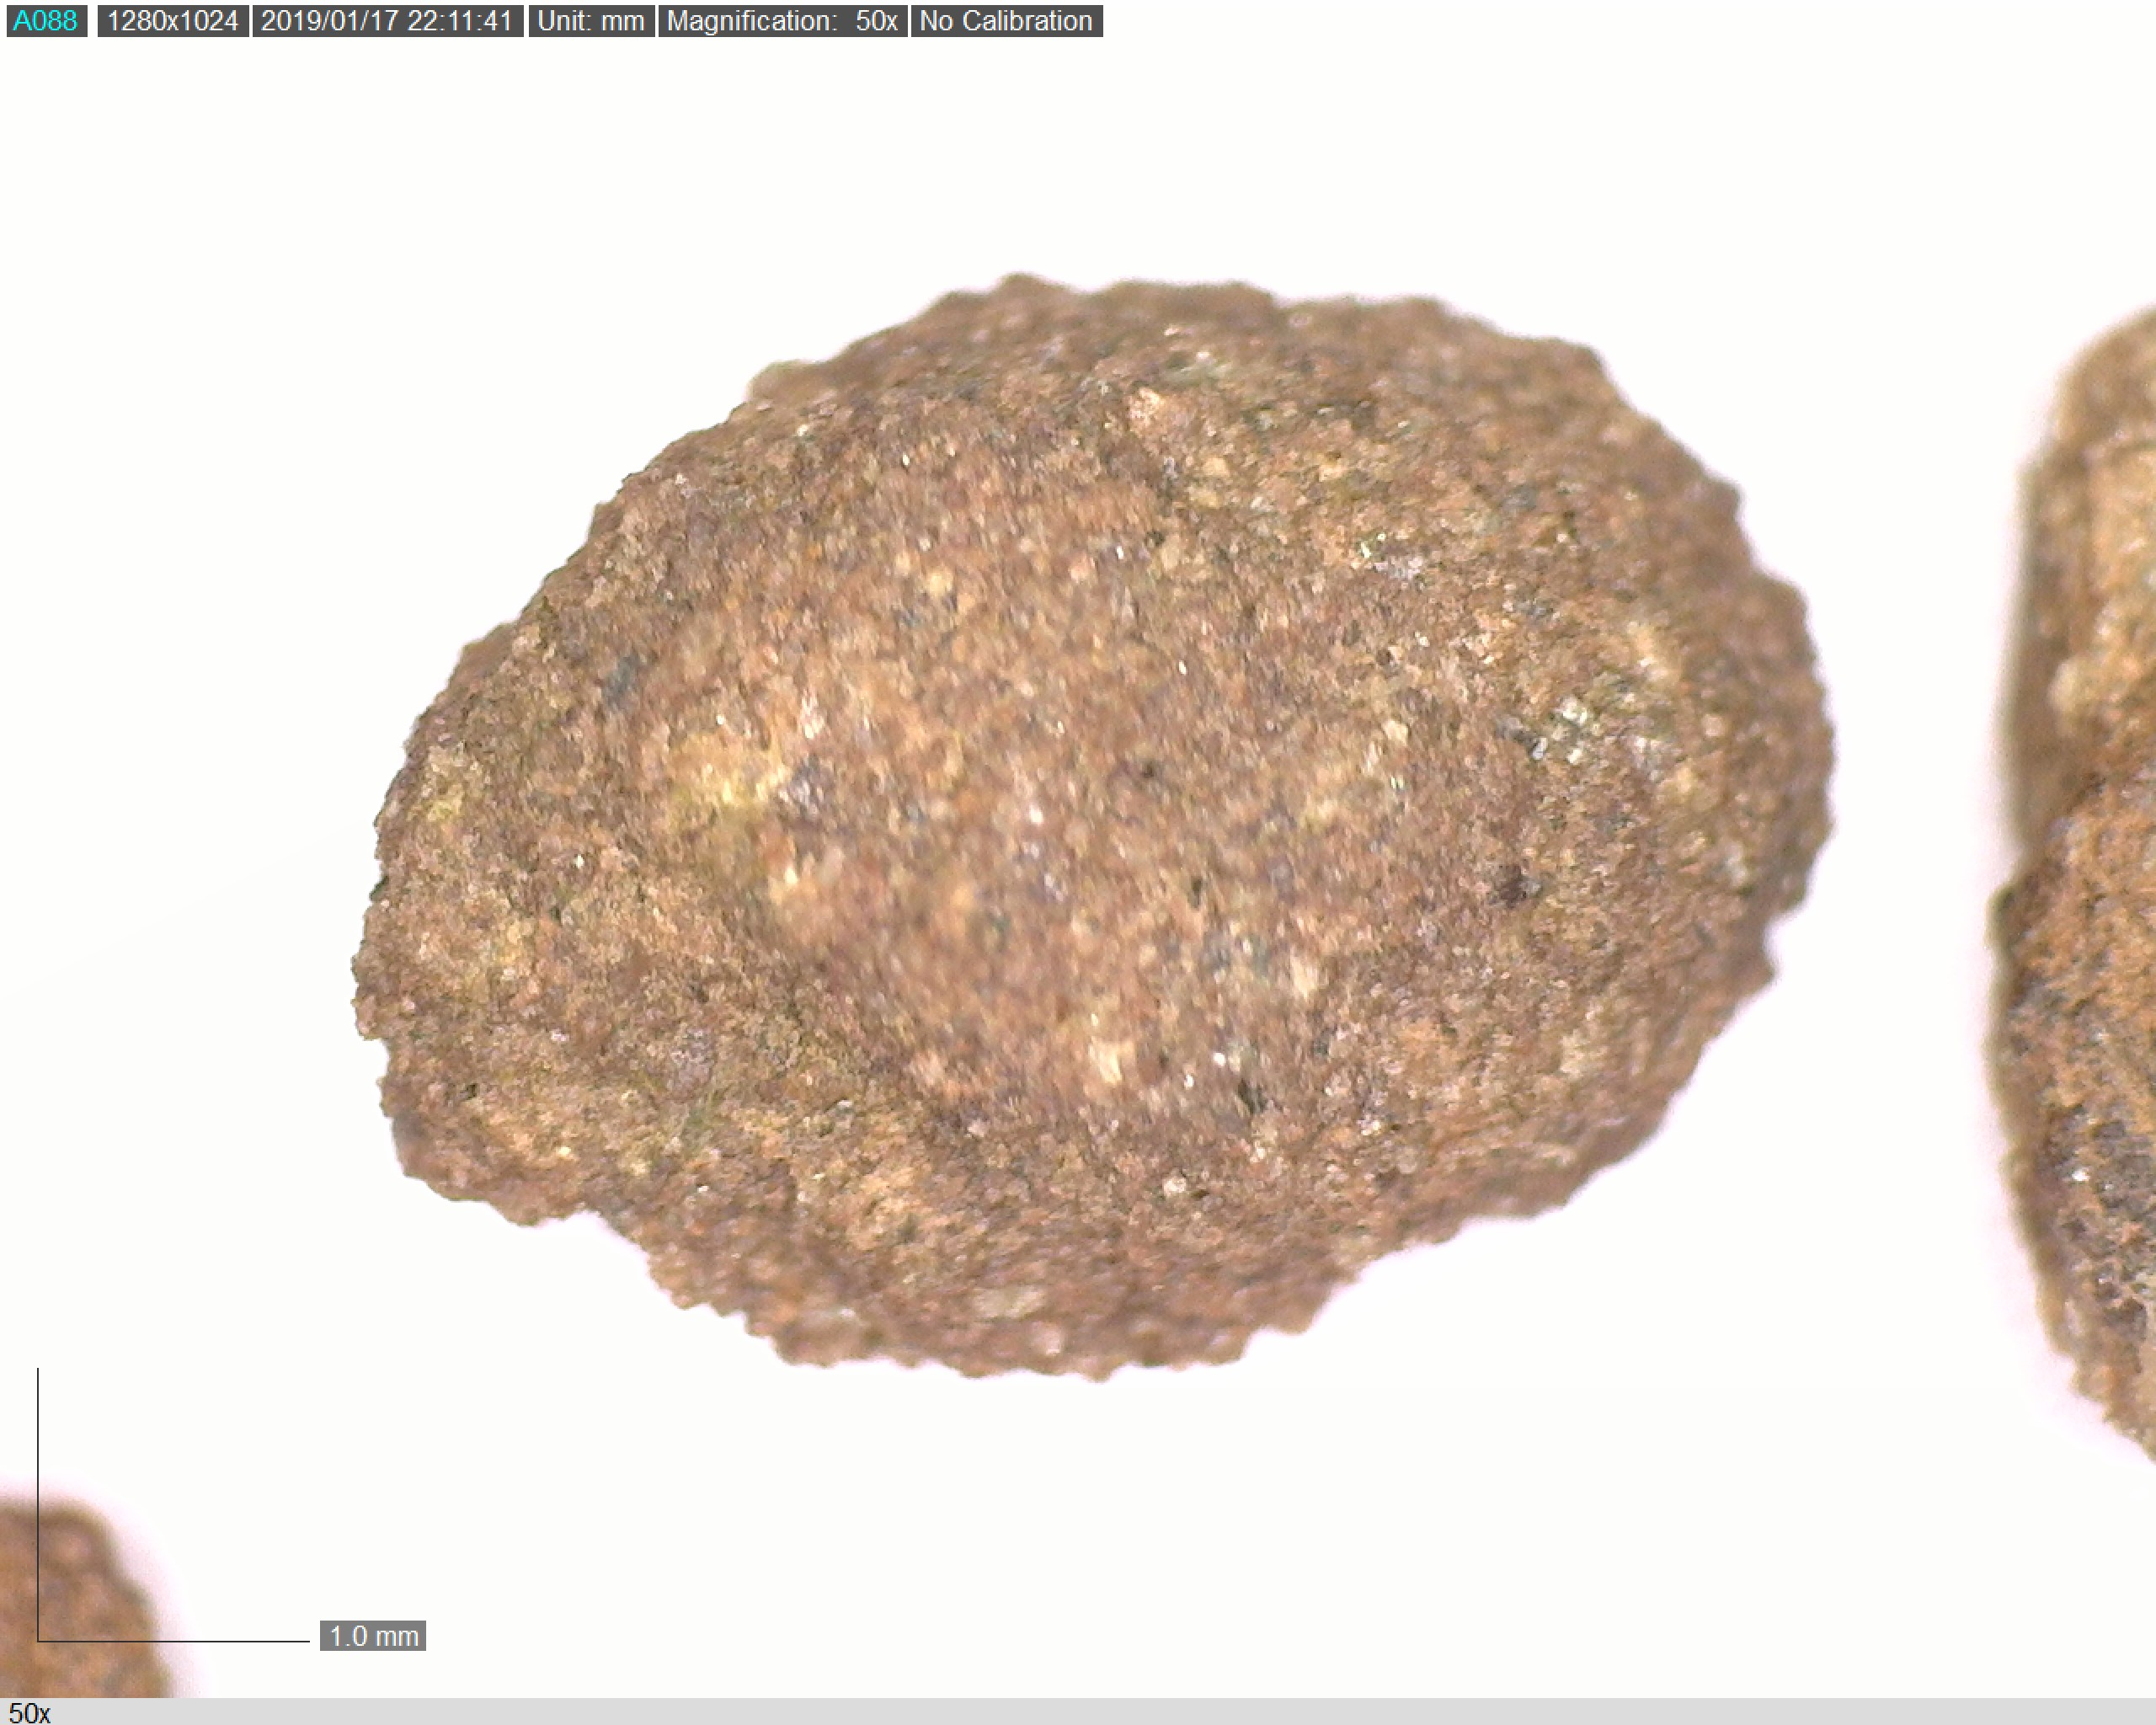Sandstone: (343, 266, 1881, 1398)
